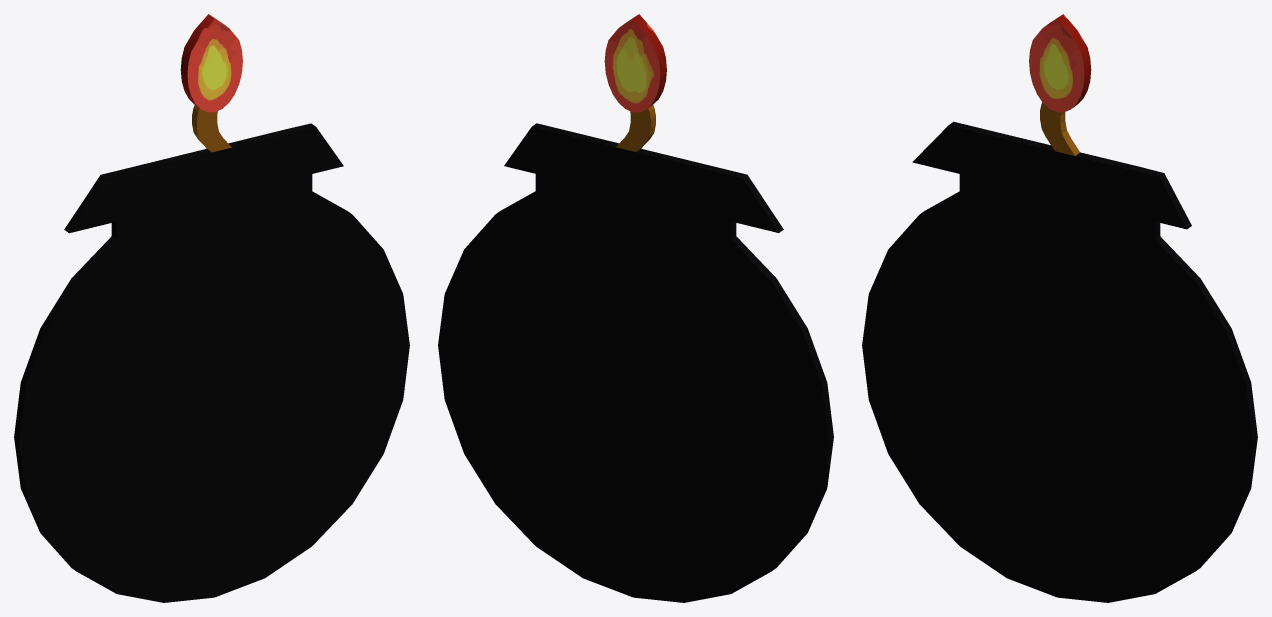
File: boom.fbx
3 views of the same model, side by side, from view 1: azimuth 30°, elevation 25°; view 2: azimuth 150°, elevation 25°; view 3: azimuth 330°, elevation 25° (orthographic).
Parts seen in each view (by area): view 1: Cone001; view 2: Cone001; view 3: Cone001.
Part boxes in pixels (bbox=[...]): Cone001: bbox=[14, 14, 409, 602]; Cone001: bbox=[438, 14, 833, 602]; Cone001: bbox=[862, 14, 1257, 602].
Size of the model in its own units: 9615 by 13614 by 287.
1 material, 1 textured.
